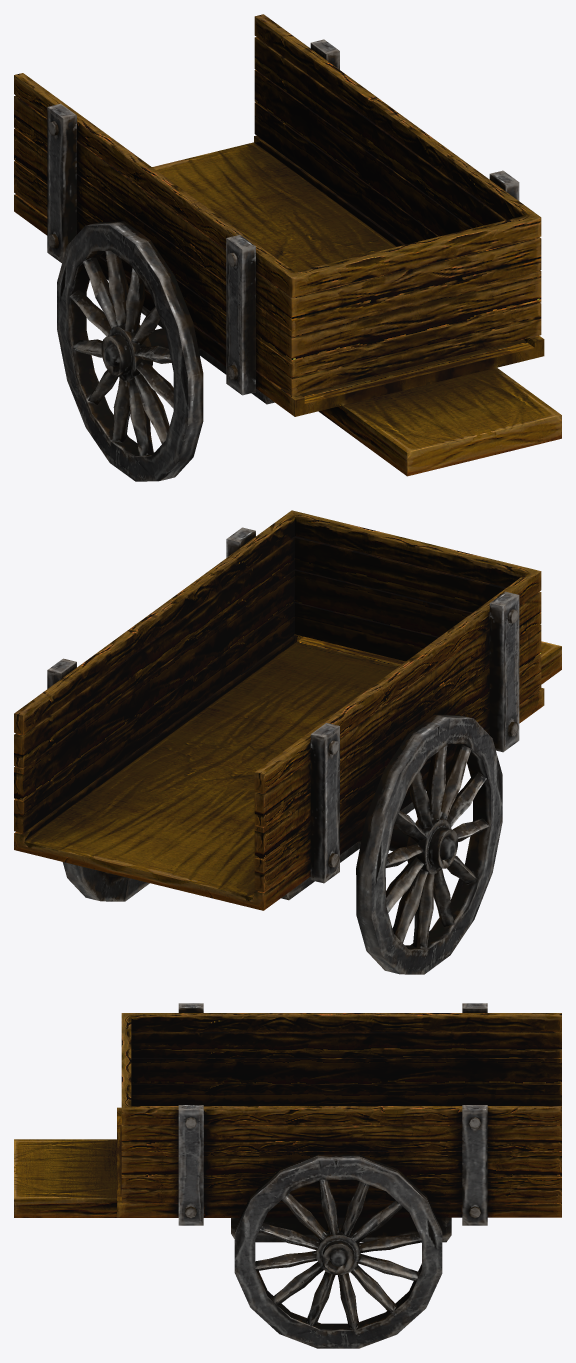
File: StylizedCart.fbx
3 renders of one model, top to bottom at view 1: azimuth 30°, elevation 25°; view 2: azimuth 150°, elevation 25°; view 3: azimuth 270°, elevation 25°, orthographic. The views are drawn at different scales.
Parts seen in each view (by area): view 1: StylizedCart; view 2: StylizedCart; view 3: StylizedCart.
Part boxes in pixels (bbox=[...]): StylizedCart: bbox=[14, 14, 561, 481]; StylizedCart: bbox=[14, 510, 561, 974]; StylizedCart: bbox=[14, 1003, 561, 1348].
Size of the model in its own units: 142 by 115 by 247.
Materials: 1 (1 with a texture image).
